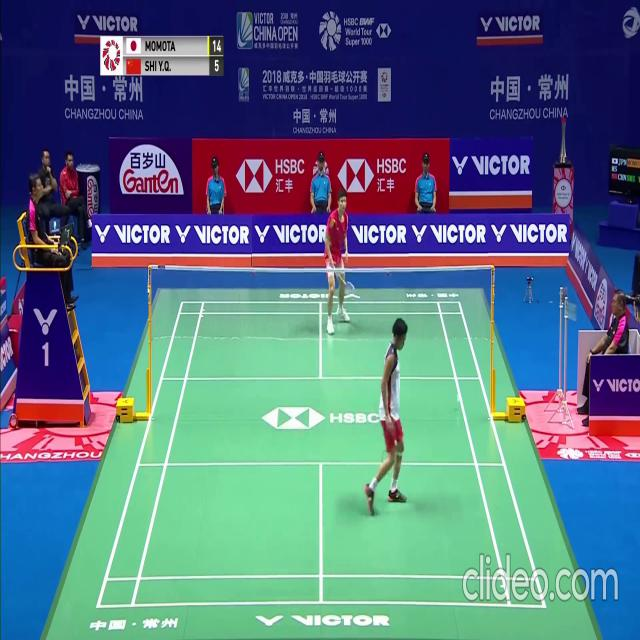Shuttlecock: (456, 394, 461, 401)
